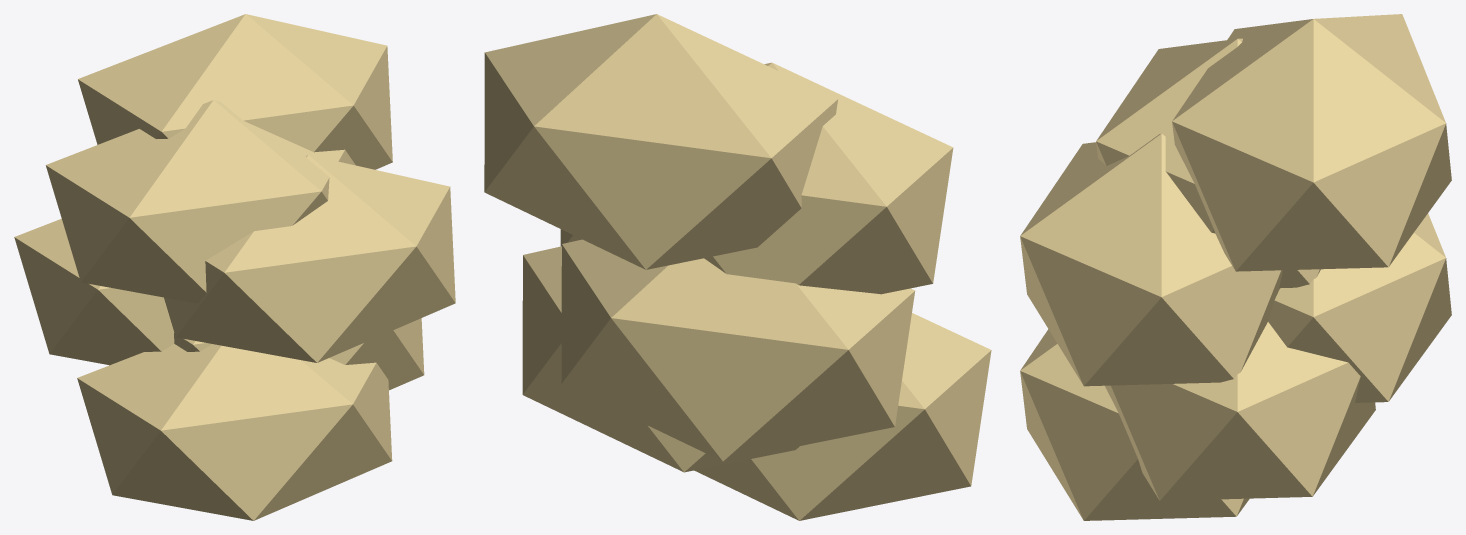
Rendered from item_066_pea_seed_l.glb.
3 views of the same model, side by side, from view 1: azimuth 30°, elevation 25°; view 2: azimuth 150°, elevation 25°; view 3: azimuth 270°, elevation 25° (orthographic). The views are drawn at different scales.
Parts seen in each view (by area): view 1: item_066_pea_seed_l; view 2: item_066_pea_seed_l; view 3: item_066_pea_seed_l.
Boxes of the visible parts, left/top/right/bottom form: item_066_pea_seed_l: left=14, top=14, right=455, bottom=520; item_066_pea_seed_l: left=484, top=14, right=991, bottom=520; item_066_pea_seed_l: left=1020, top=14, right=1451, bottom=520.
Size of the model in its own units: 0.3725 by 0.4554 by 0.341.
